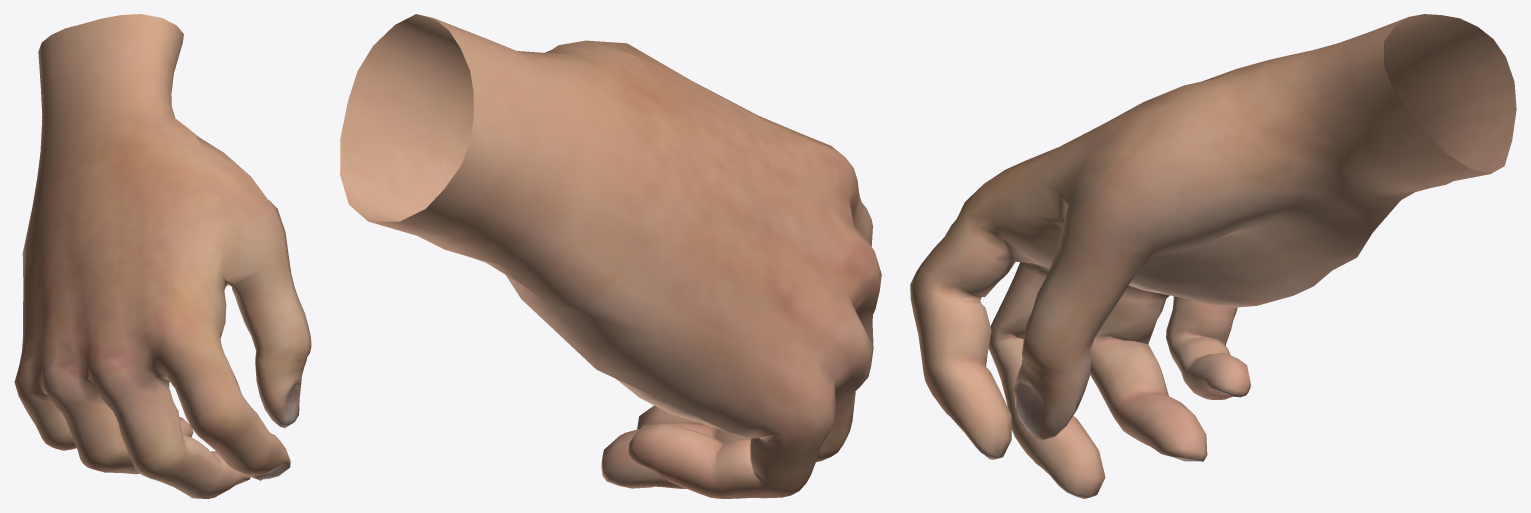
Rendered from hand_right_grip.glb.
The picture shows the model from 3 angles, left to right: view 1: azimuth 30°, elevation 25°; view 2: azimuth 150°, elevation 25°; view 3: azimuth 270°, elevation 25°; orthographic projection. The views are drawn at different scales.
Parts seen in each view (by area): view 1: MakeHumanGripRight; view 2: MakeHumanGripRight; view 3: MakeHumanGripRight.
Part boxes in pixels (left/top/right/bottom): MakeHumanGripRight: left=14, top=14, right=311, bottom=498; MakeHumanGripRight: left=340, top=14, right=881, bottom=498; MakeHumanGripRight: left=910, top=14, right=1516, bottom=498.
Bounding box in the file's own units: 0.0951 × 0.1419 × 0.1589.
1 material, 1 textured.
